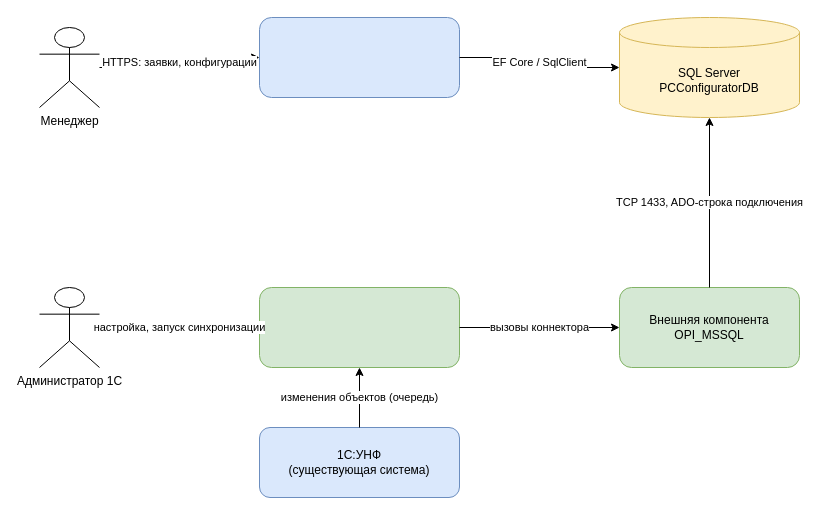
Some shapes in this 820 by 515 pixel diagram are drawn without their labels. Each missing label, with the centre of its shape:
Расширение 1CSQLSYNCHRONYSATOR: pixel 359 327
Сайт PCRETAIL ASP.NET Core, .NET 8: pixel 359 57
